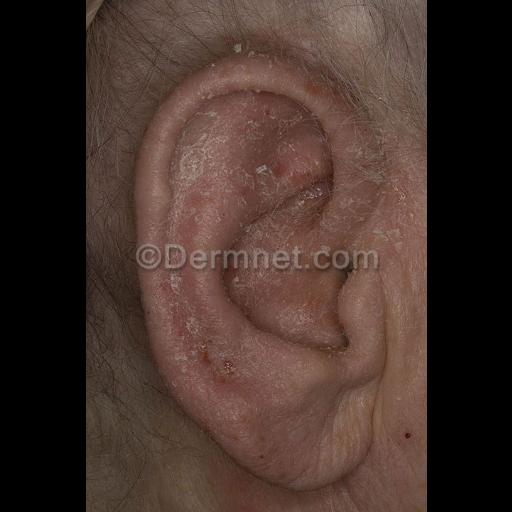Skin_Lesion: (208, 52, 352, 120), (178, 318, 276, 406), (234, 140, 318, 210), (340, 158, 408, 242), (138, 189, 192, 241), (399, 422, 413, 456)
